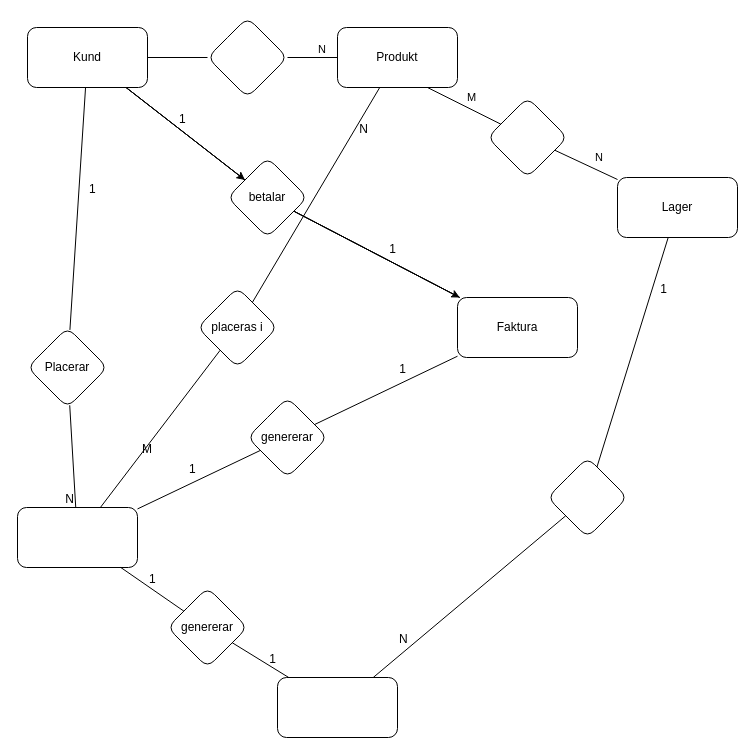
This 755x755 diagram has some shape labels left out. Here are the shapes that lost their labels. From the top down, the centre of each, then its label:
At (x=247, y=57): "Beställer".
At (x=527, y=137): "finns på".
At (x=587, y=497): "får en".
At (x=77, y=537): "Order".
At (x=337, y=707): "Plocklista".
